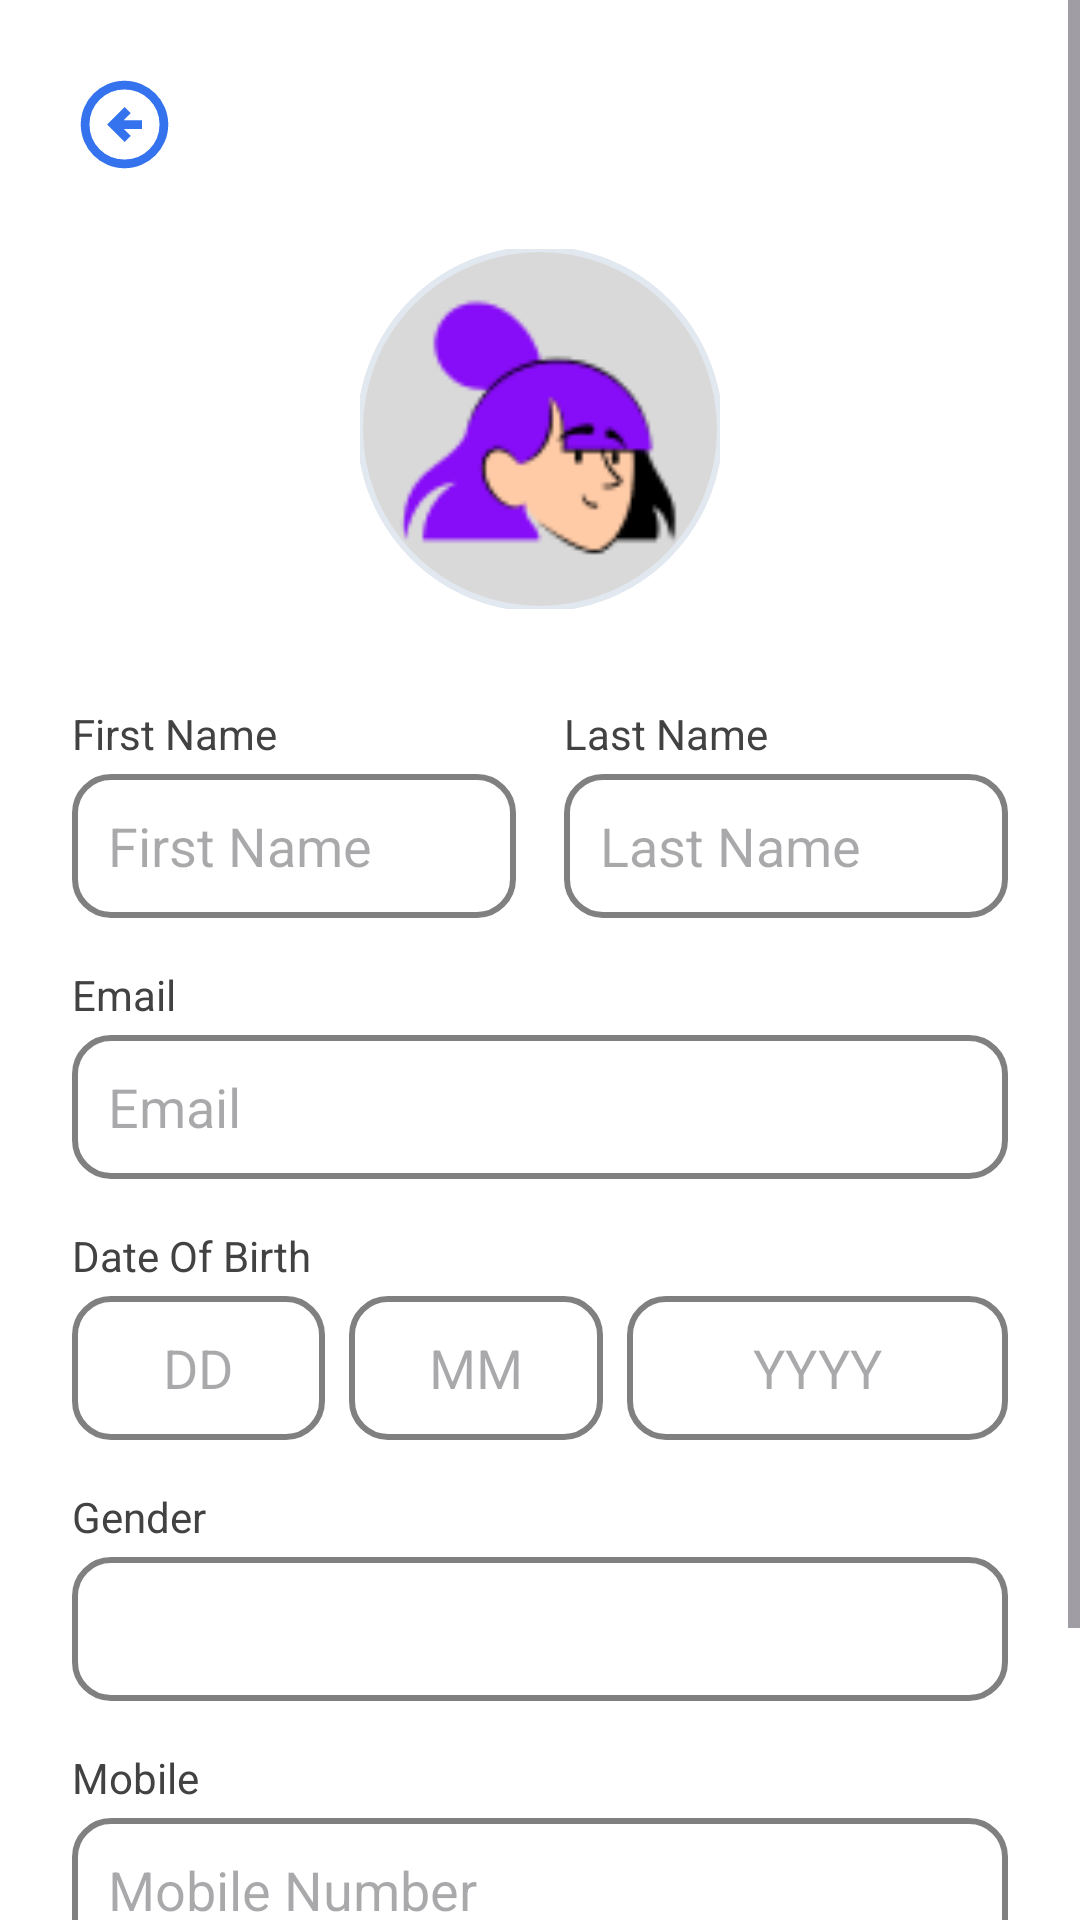

Icons on this 1080 x 1920 Android screen, each with the point to tap as [x,y]:
back arrow: [124,124]
profile: [540,429]
